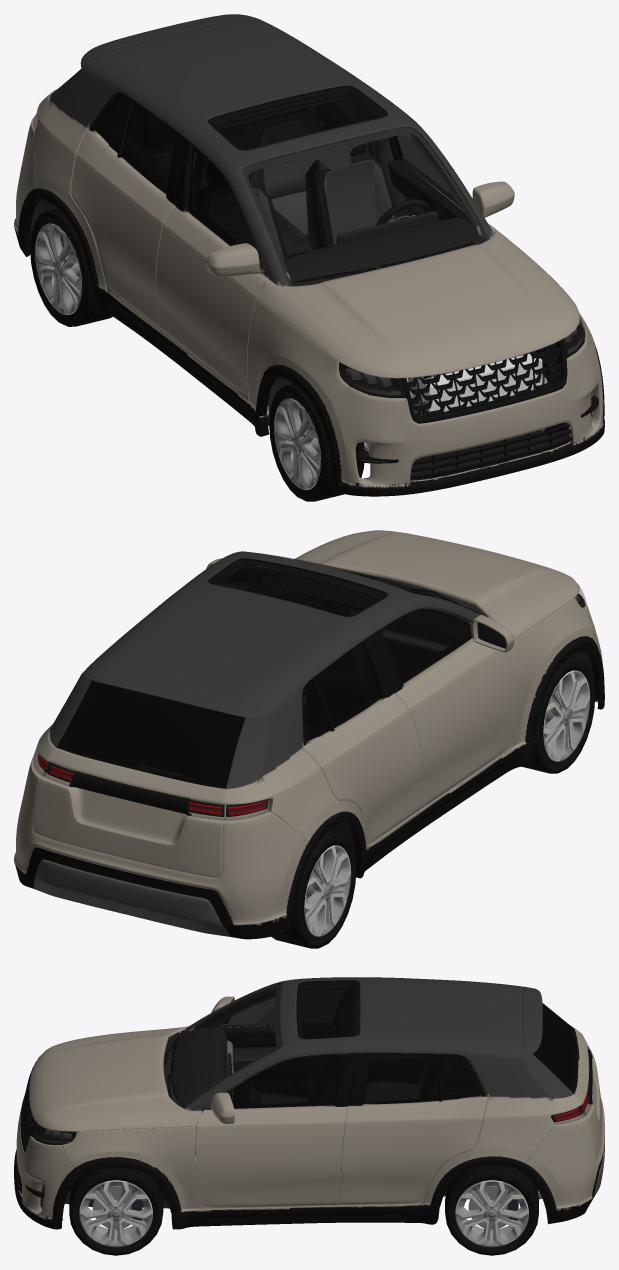
File: generic-small-suv.glb
The picture shows the model from 3 angles, top to bottom: view 1: azimuth 30°, elevation 25°; view 2: azimuth 150°, elevation 25°; view 3: azimuth 270°, elevation 25°; orthographic projection. The views are drawn at different scales.
Visible parts, largest first — view 1: chassis-sunroof, hood, glass-windshield, bumper-front, door-front-right, door-rear-right, dashboard, seat-rear, glass-sunroof, seat-front-left, fender-front-right, front-grille (+25 smaller); view 2: chassis-sunroof, bumper-rear, trunk, door-front-right, hood, glass-rear, door-rear-right, glass-sunroof, dashboard, fender-front-right, glass-door-front-right, glass-door-rear-right (+18 smaller); view 3: chassis-sunroof, door-front-left, door-rear-left, hood, glass-windshield, fender-front-left, bumper-rear, glass-door-front-left, dashboard, glass-door-rear-left, glass-sunroof, bumper-front (+28 smaller).
Part boxes in pixels (x1,y1,x2,y2): chassis-sunroof: [34, 18, 493, 436]; hood: [257, 225, 579, 378]; glass-windshield: [243, 127, 487, 285]; bumper-front: [325, 328, 604, 496]; door-front-right: [155, 137, 268, 401]; door-rear-right: [71, 92, 183, 331]; dashboard: [283, 211, 486, 286]; seat-rear: [131, 110, 322, 255]; glass-sunroof: [207, 85, 387, 150]; seat-front-left: [305, 122, 398, 250]; fender-front-right: [247, 298, 349, 410]; front-grille: [408, 345, 561, 418]; chassis-sunroof: [34, 551, 534, 878]; bumper-rear: [14, 754, 308, 939]; trunk: [33, 747, 225, 877]; door-front-right: [371, 607, 515, 811]; hood: [294, 530, 579, 638]; glass-rear: [56, 680, 245, 788]; door-rear-right: [302, 635, 422, 847]; glass-sunroof: [207, 558, 387, 616]; dashboard: [266, 577, 467, 668]; fender-front-right: [508, 597, 592, 750]; glass-door-front-right: [380, 611, 471, 683]; glass-door-rear-right: [315, 643, 380, 728]; chassis-sunroof: [171, 977, 582, 1229]; door-front-left: [195, 1053, 358, 1210]; door-rear-left: [340, 1053, 487, 1206]; hood: [29, 1026, 201, 1131]; glass-windshield: [170, 983, 280, 1107]; fender-front-left: [61, 1126, 198, 1211]; bumper-rear: [525, 1045, 604, 1224]; glass-door-front-left: [229, 1055, 345, 1108]; dashboard: [170, 1027, 239, 1150]; glass-door-rear-left: [363, 1054, 443, 1104]; glass-sunroof: [296, 980, 359, 1039]; bumper-front: [14, 1100, 73, 1229].
Bounding box in the file's own units: 1.95 × 1.56 × 4.19.
Materials: 16 (6 with a texture image).
